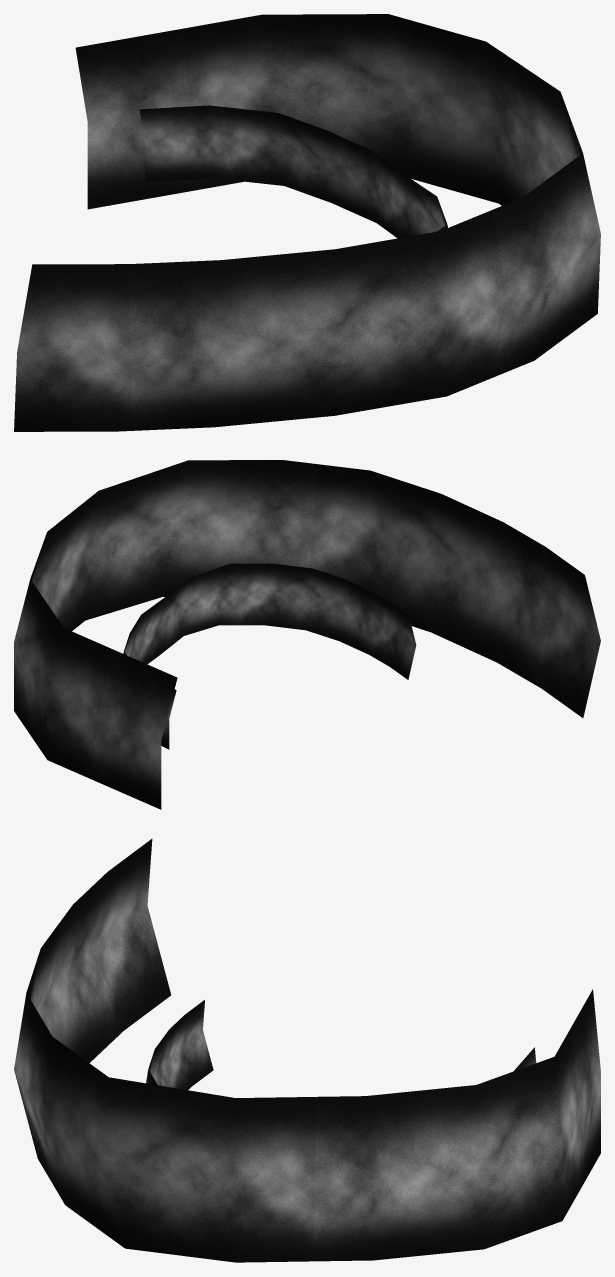
File: blow.fbx
3 renders of one model, top to bottom at view 1: azimuth 30°, elevation 25°; view 2: azimuth 150°, elevation 25°; view 3: azimuth 270°, elevation 25°, orthographic. The views are drawn at different scales.
Visible parts, largest first — view 1: snowblow; view 2: snowblow; view 3: snowblow.
Boxes of the visible parts, x1,y1,x2,y2 form: snowblow: [14, 14, 600, 431]; snowblow: [14, 460, 600, 809]; snowblow: [14, 839, 600, 1262].
Size of the model in its own units: 4009 by 1225 by 3611.
